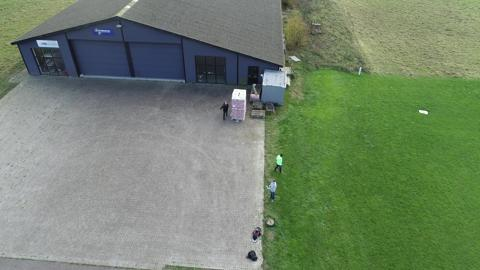RockwoolPallet: (232, 89, 247, 120)
